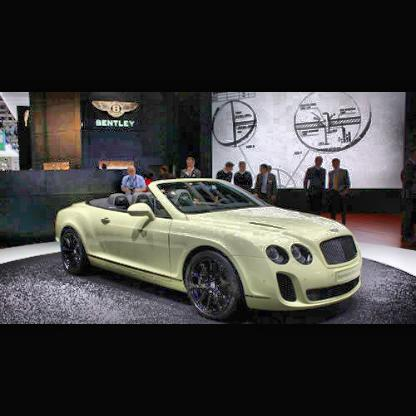Bentley Continental Supersports Conv- Convertible 2012: (46, 173, 373, 323)
